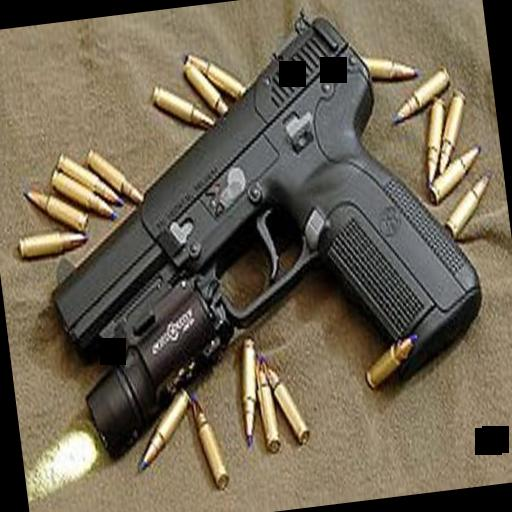Handgun: (6, 0, 485, 417)
